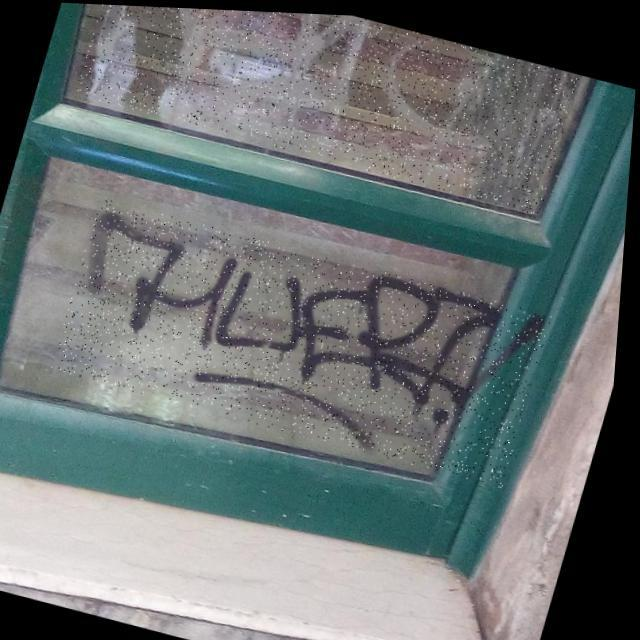-: (50, 195, 562, 484), (70, 2, 583, 210)
